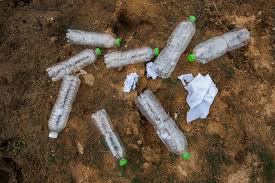Botella: (48, 49, 97, 137), (136, 90, 186, 154), (155, 16, 194, 77), (188, 29, 249, 63), (92, 110, 124, 165), (104, 47, 155, 67), (67, 31, 120, 47)
